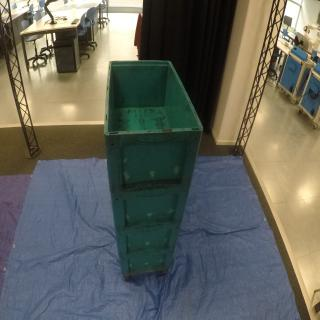BoxB4: (103, 58, 205, 188), (110, 188, 192, 226), (113, 221, 182, 249), (118, 253, 176, 272)
